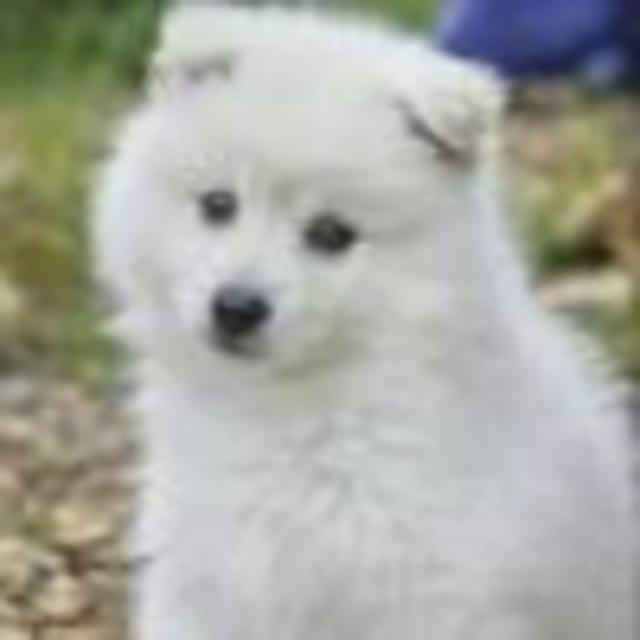dog: (81, 5, 561, 405)
